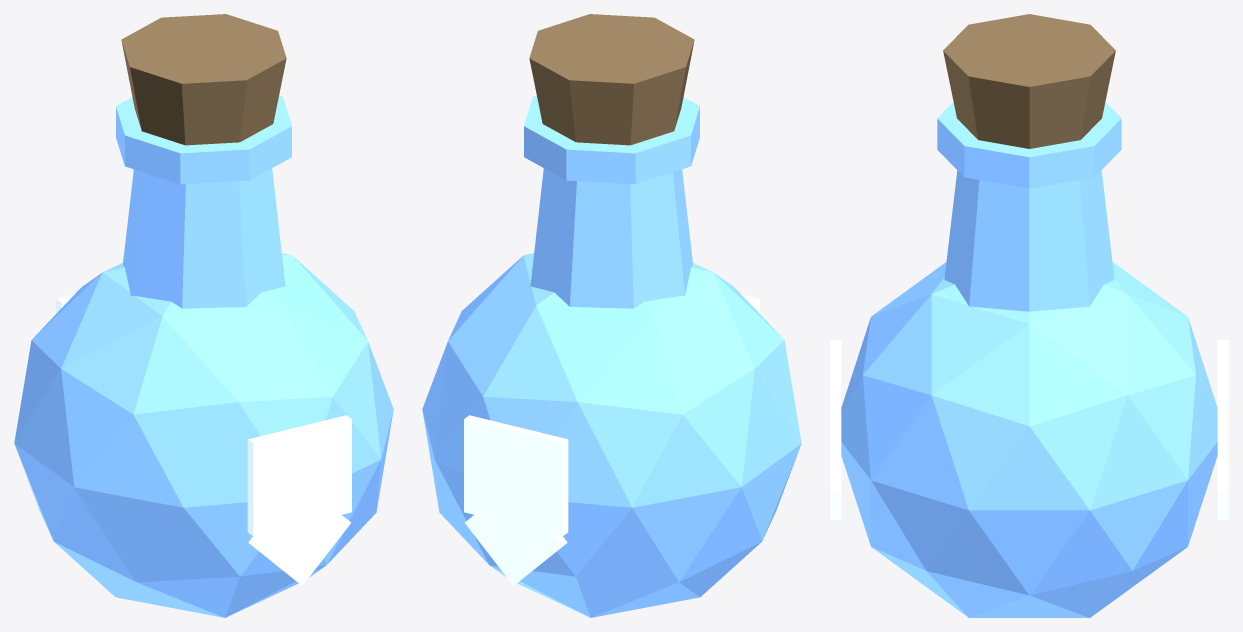
The model's file is shield_potion.glb.
3 views of the same model, side by side, from view 1: azimuth 30°, elevation 25°; view 2: azimuth 150°, elevation 25°; view 3: azimuth 270°, elevation 25° (orthographic).
Visible parts, largest first — view 1: shield_potion; view 2: shield_potion; view 3: shield_potion.
Part boxes in pixels (x1,y1,x2,y2): shield_potion: (14,14,393,617); shield_potion: (422,14,801,617); shield_potion: (830,14,1228,617).
Size of the model in its own units: 0.4042 by 0.6687 by 0.432.
